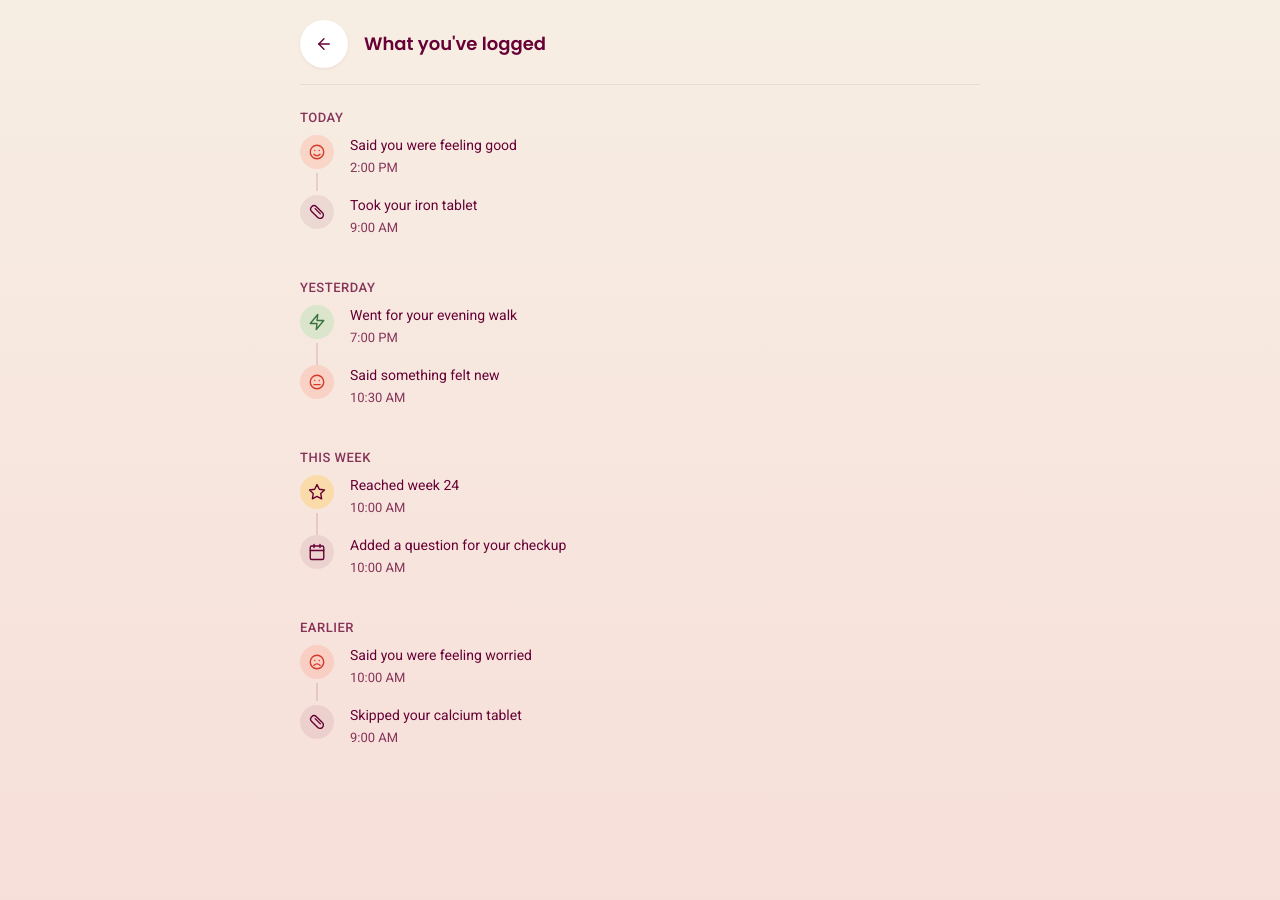
Scenario: ActivityFeed › shows a no-notes fallback when a mood row without notes is tapped
Step 1. Click the button "Said something felt new 10:30 AM" → (317, 382), box top-left (300, 365), bottom-right (980, 425)
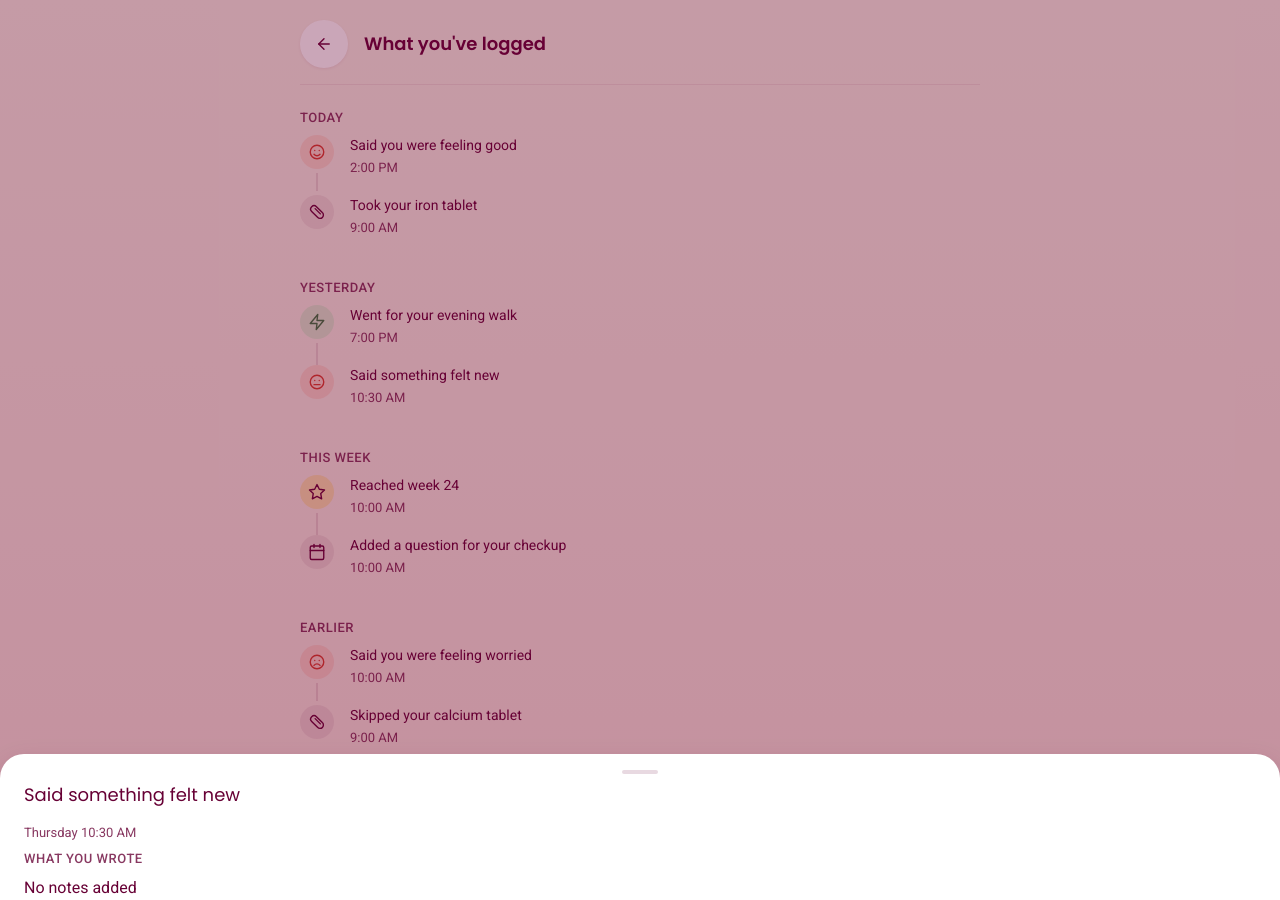
expect the text "No notes added" is shown: met, box top-left (24, 878), bottom-right (137, 897)
